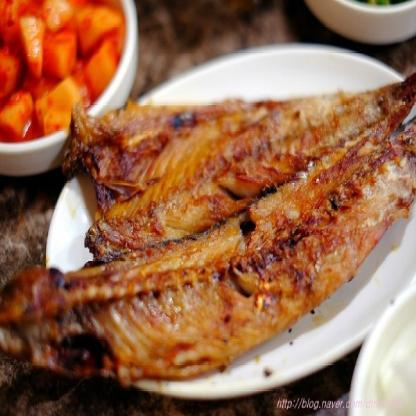Peixe: (0, 60, 416, 412)
